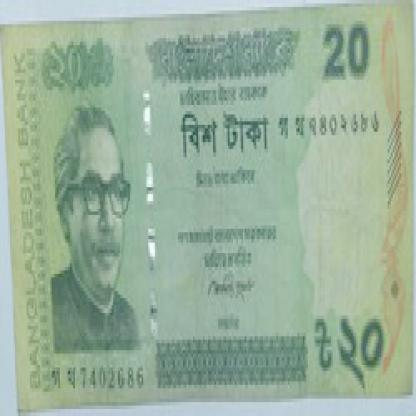Twenty: (308, 308, 396, 392), (160, 114, 276, 160), (32, 42, 116, 97), (318, 20, 381, 86)
